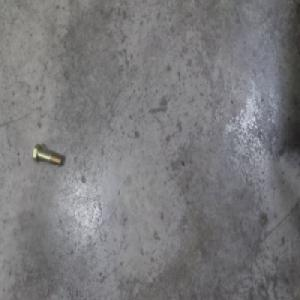Bolt: (32, 142, 63, 169)
